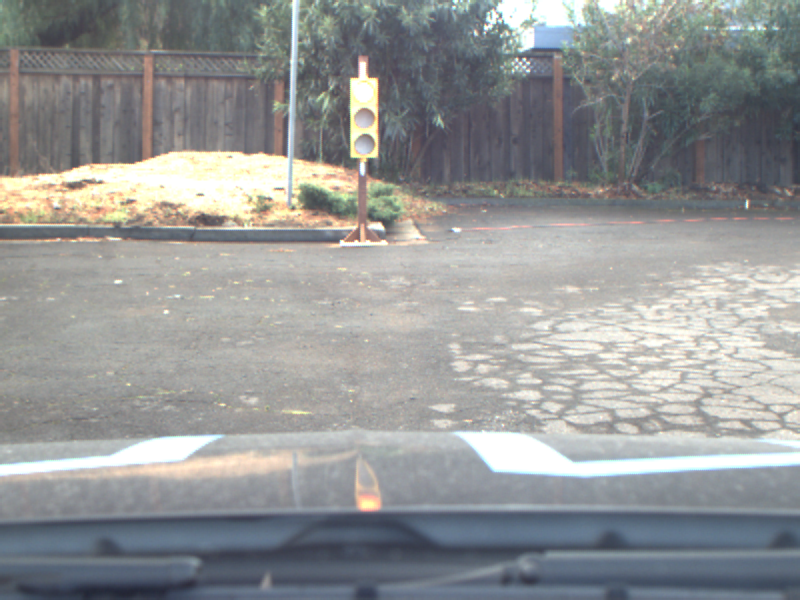Red: (349, 78, 378, 158)
